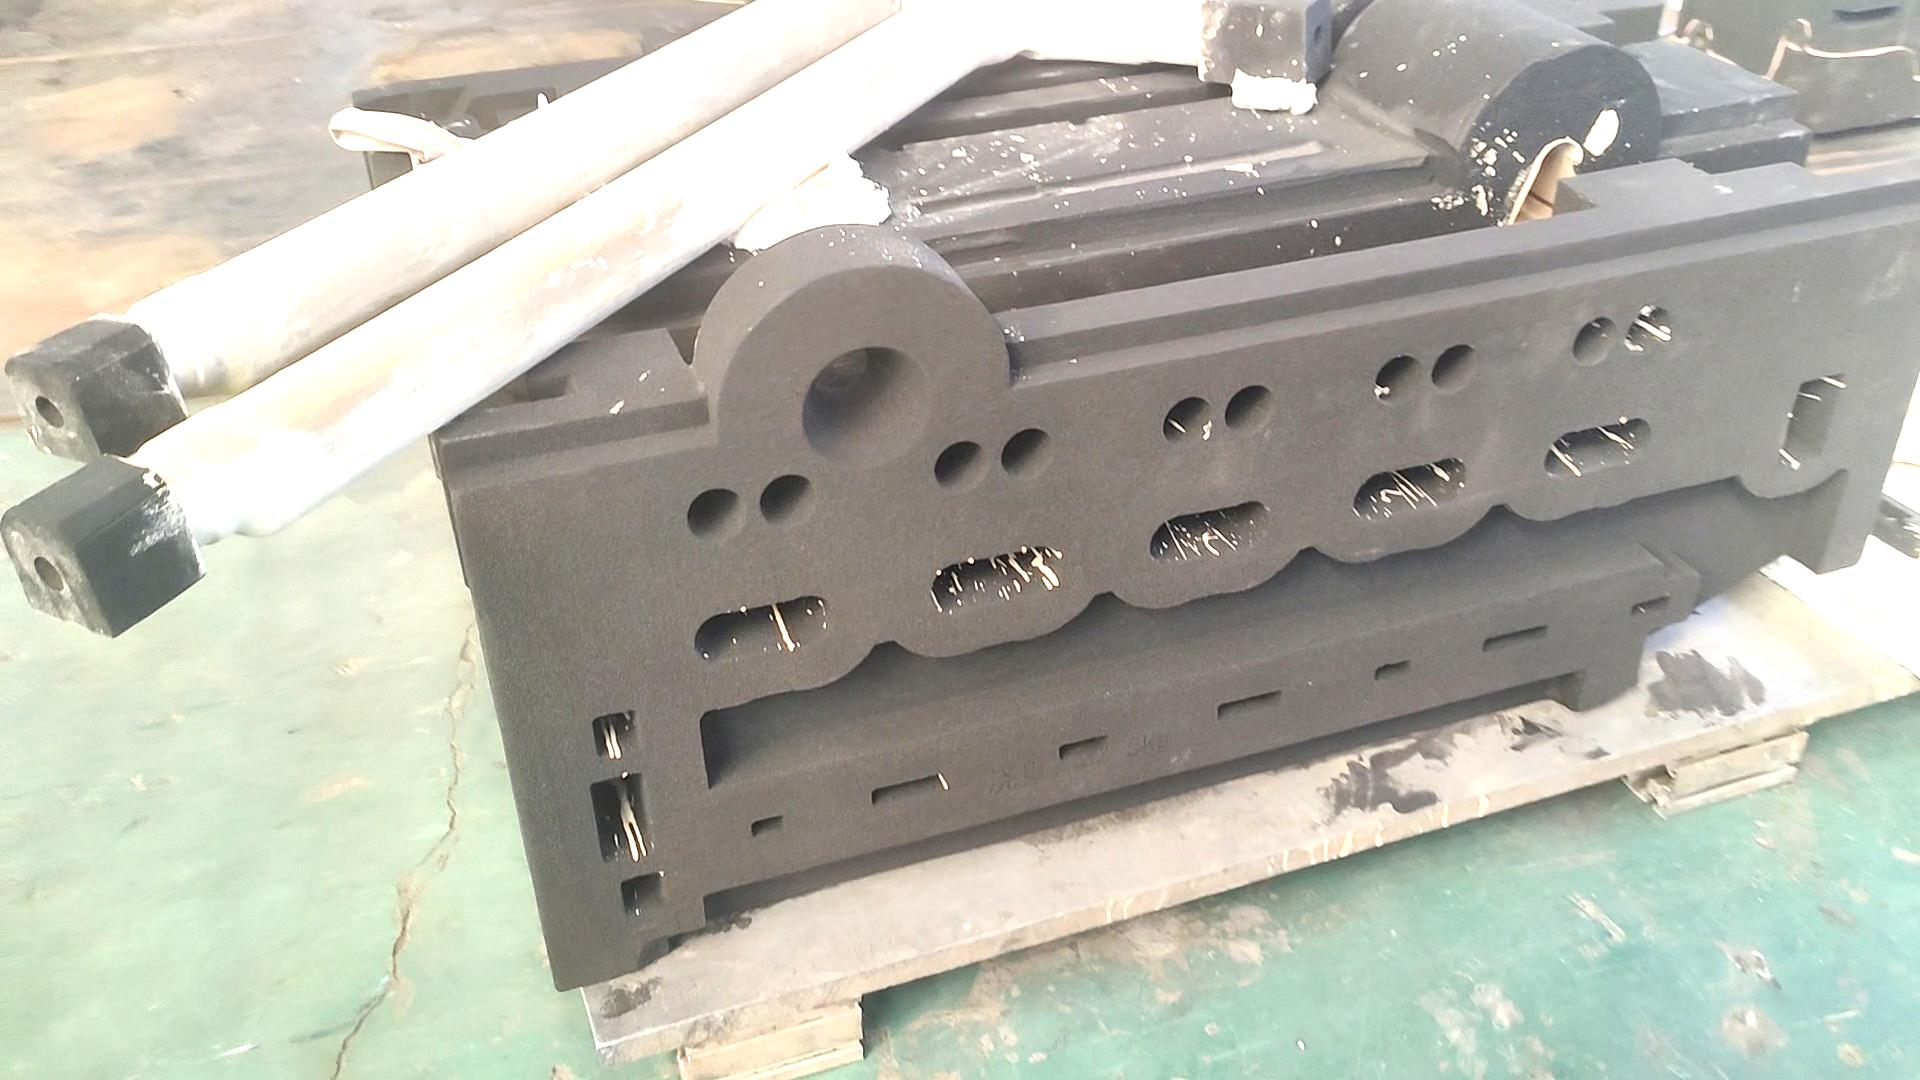pouring hole: (804, 347, 931, 469)
